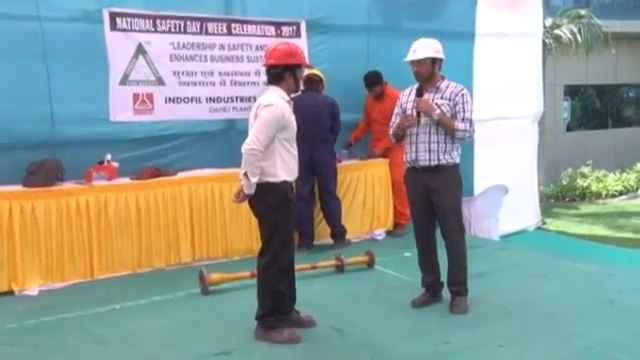helmet: (262, 40, 314, 69), (401, 36, 447, 64), (300, 67, 326, 83)
helmet_off: (360, 69, 390, 103)
helmet_on: (261, 40, 314, 97), (400, 35, 448, 89), (300, 67, 327, 96)
person: (232, 40, 318, 346), (390, 36, 472, 316), (346, 68, 417, 239), (292, 65, 353, 248)
